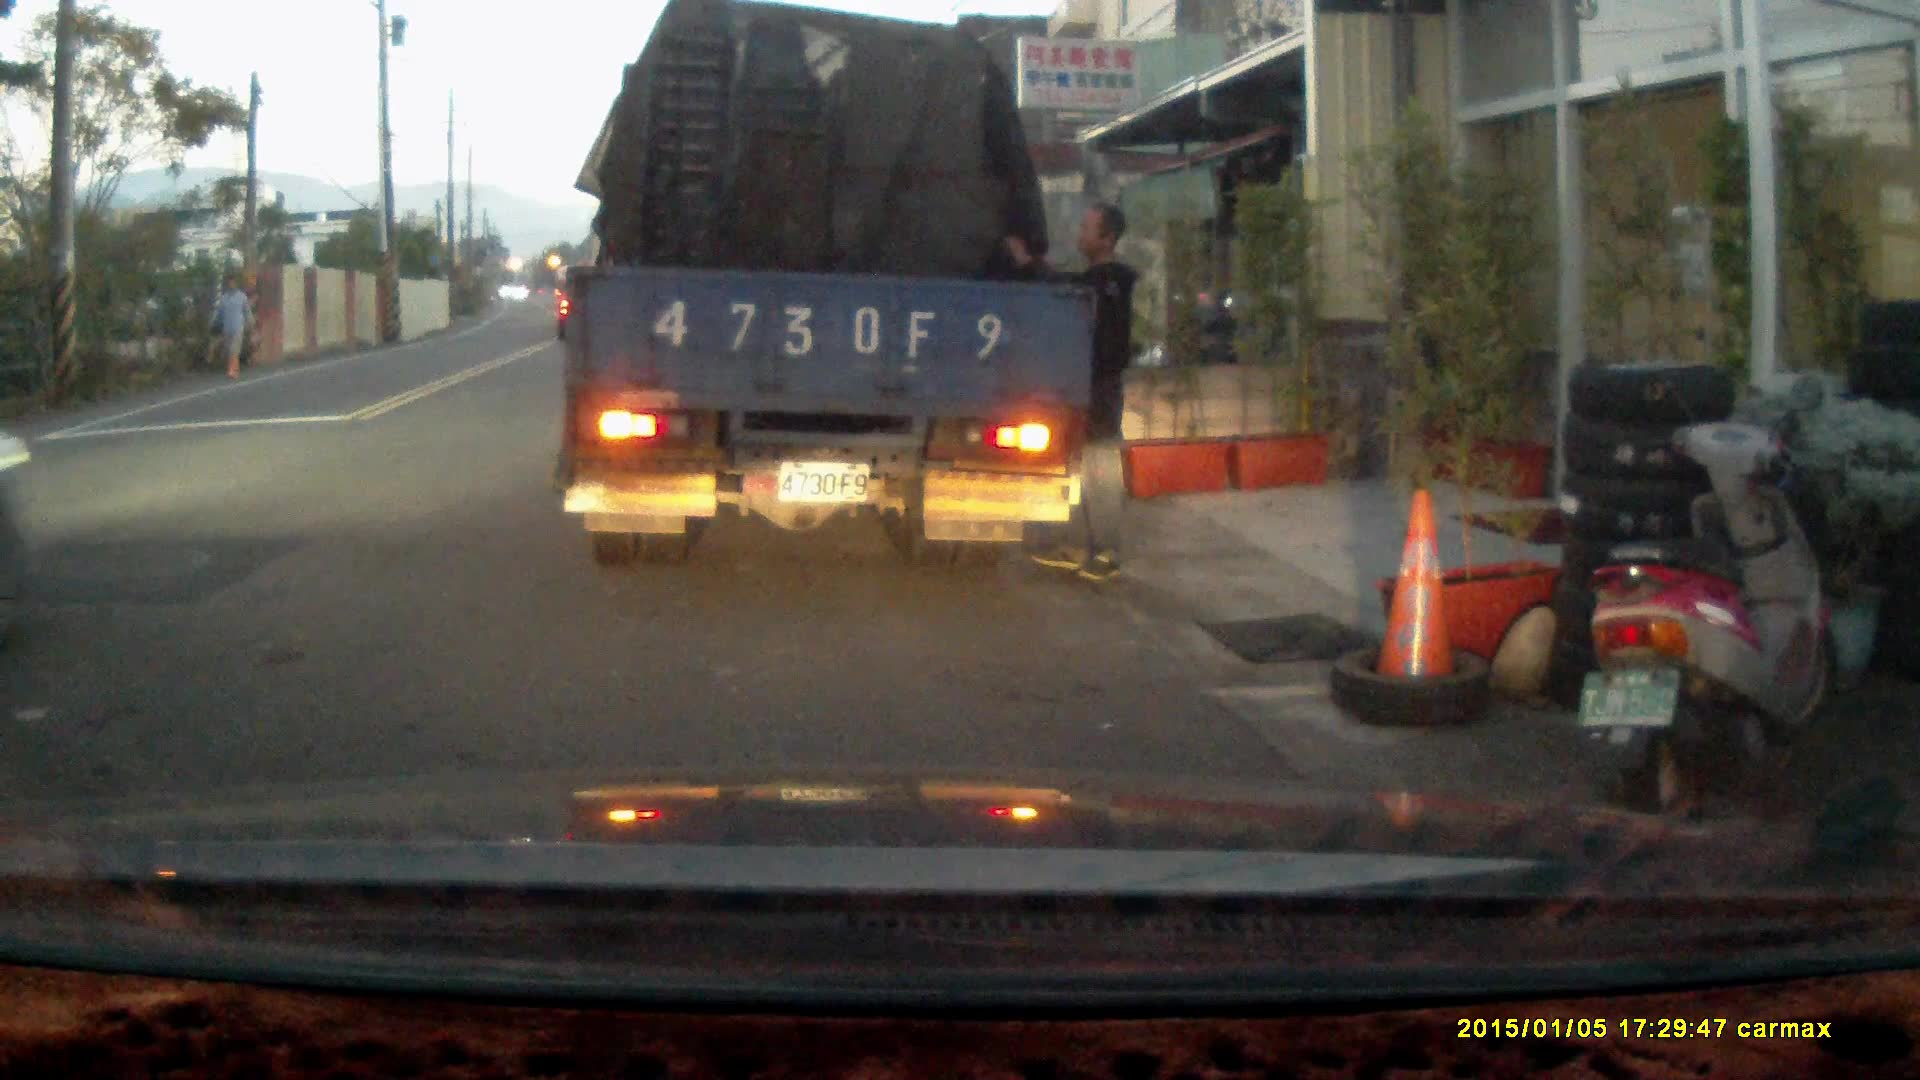pedestrian: (998, 200, 1134, 581), (212, 270, 252, 382)
vehicle: (565, 23, 1097, 572)
